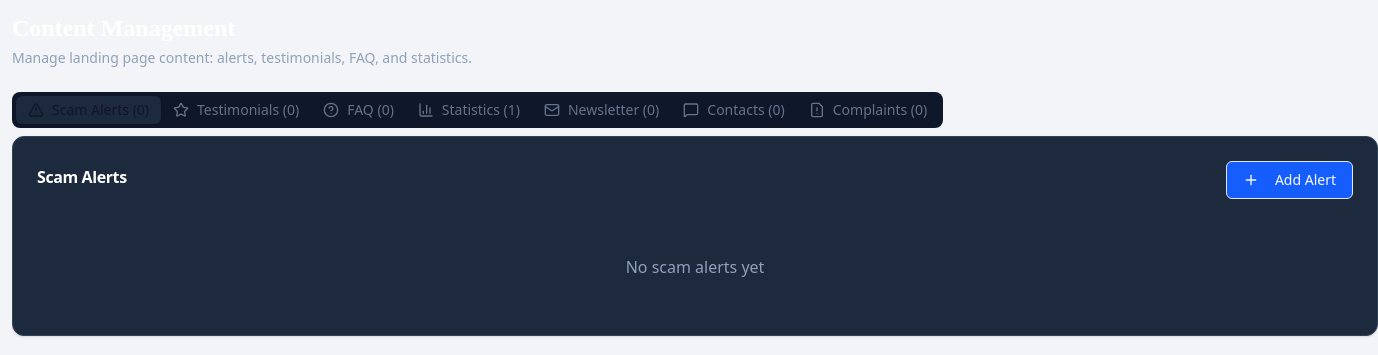
it: ContentManagement — statistics delete button behavioral tests › delete button appears for each statistics row
Click the tab with test id "content-tab-statistics". click: (469, 110)
box: [406, 96, 532, 124]
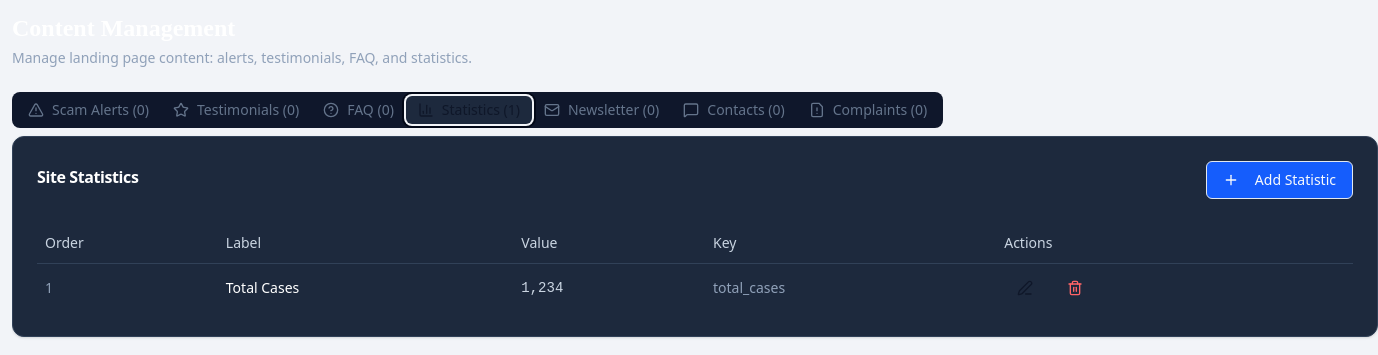
expect the button with test id "button-delete-stat-7" is shown: met, box [1054, 272, 1096, 304]
